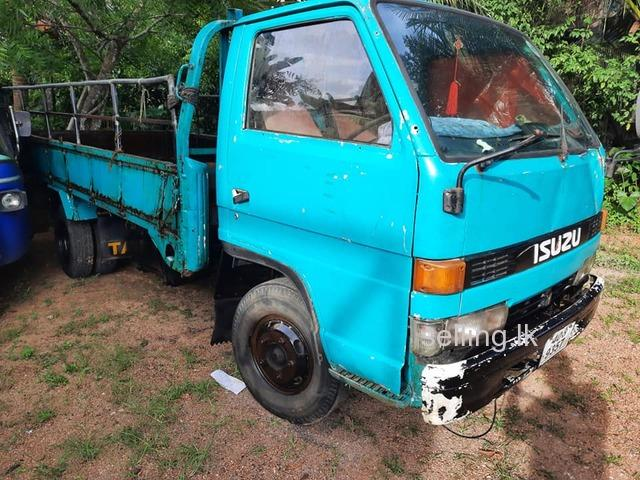threewheel: (1, 98, 31, 275)
truck: (29, 1, 608, 424)
